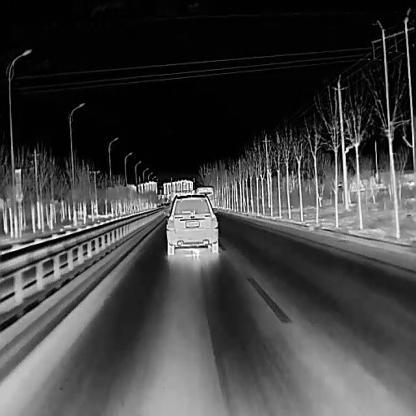car: (164, 192, 217, 255)
